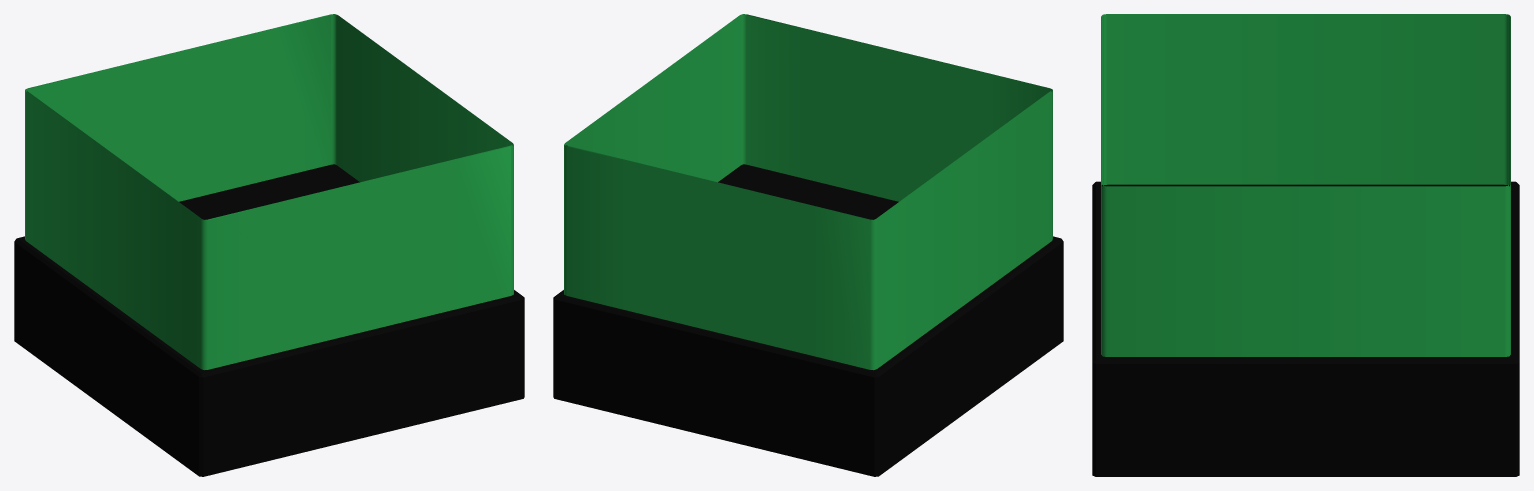
The model's file is bin.dae.
3 renders of one model, left to right at view 1: azimuth 30°, elevation 25°; view 2: azimuth 150°, elevation 25°; view 3: azimuth 270°, elevation 25°, orthographic. The views are drawn at different scales.
Visible parts, largest first — view 1: Bin; view 2: Bin; view 3: Bin.
Part boxes in pixels (x1,y1,x2,y2): Bin: (14,14,524,476); Bin: (553,14,1063,476); Bin: (1092,14,1519,476).
Bounding box in the file's own units: 0.6684 × 0.6684 × 0.4939.
1 material, 1 textured.
